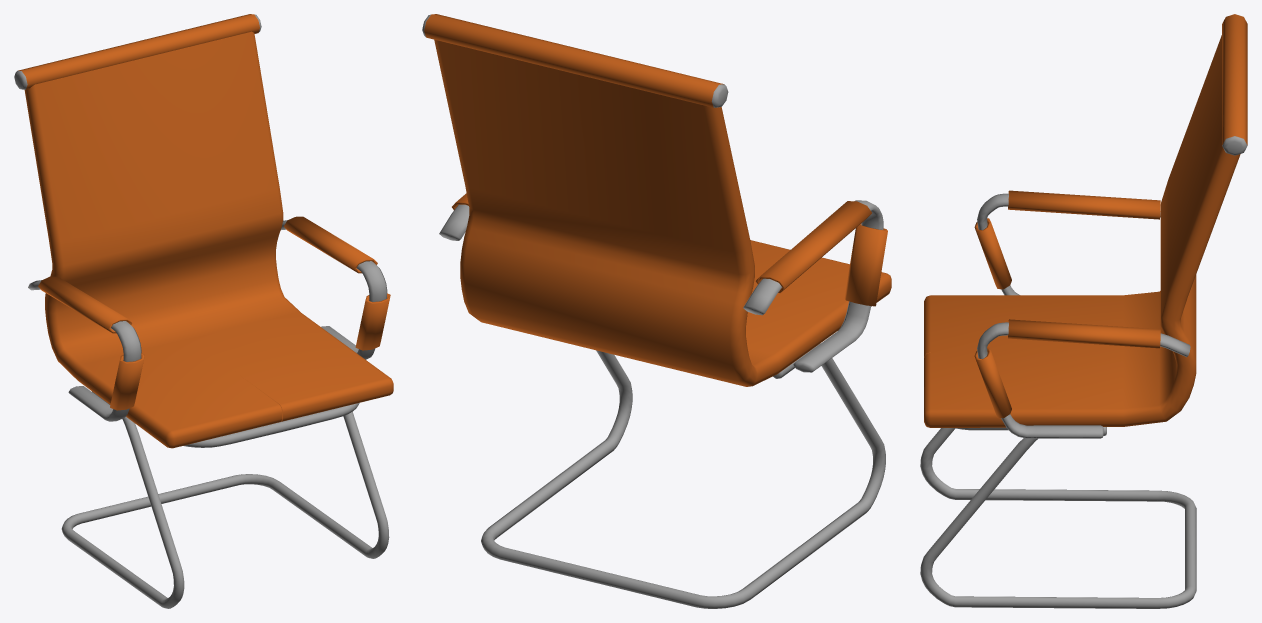
File: Cadeira.fbx
3 views of the same model, side by side, from view 1: azimuth 30°, elevation 25°; view 2: azimuth 150°, elevation 25°; view 3: azimuth 270°, elevation 25° (orthographic). The views are drawn at different scales.
Visible parts, largest first — view 1: Cadeira_pe; view 2: Cadeira_pe; view 3: Cadeira_pe.
Part boxes in pixels (x1=…): Cadeira_pe: x1=14, y1=14, x2=393, y2=608; Cadeira_pe: x1=422, y1=14, x2=891, y2=608; Cadeira_pe: x1=920, y1=14, x2=1247, y2=608.
Bounding box in the file's own units: 99.93 × 157 × 97.21.
